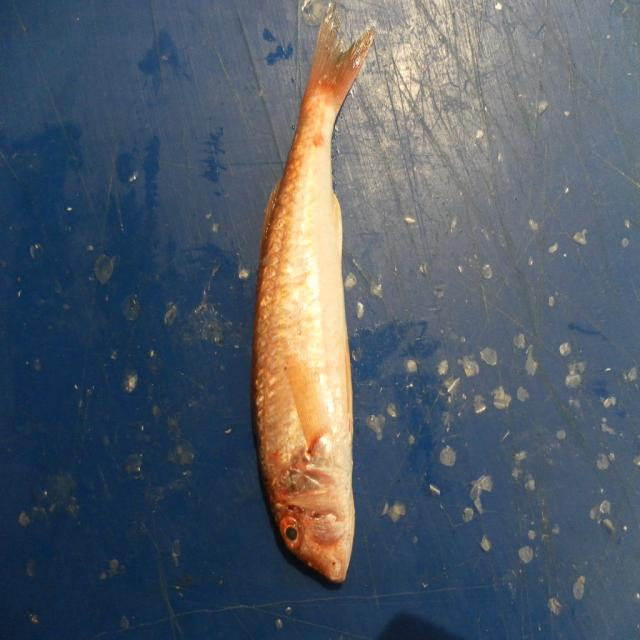Striped-Red-Mullet-tekir-: (250, 15, 377, 589)
